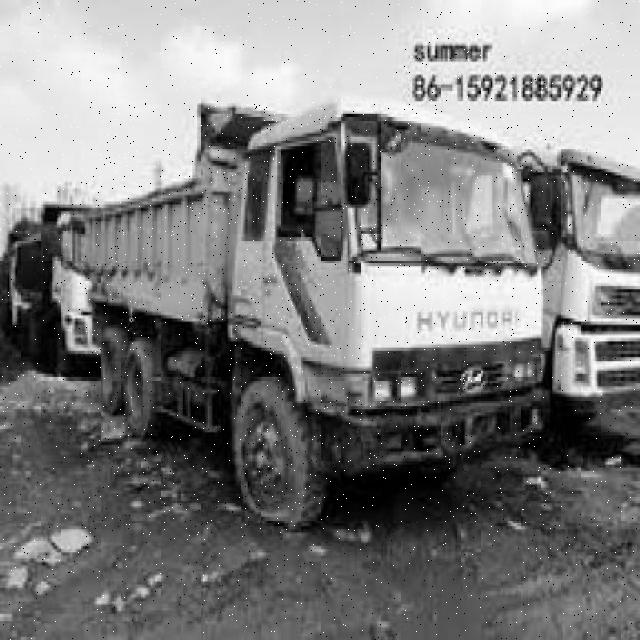Box Truck: (85, 100, 551, 532)
